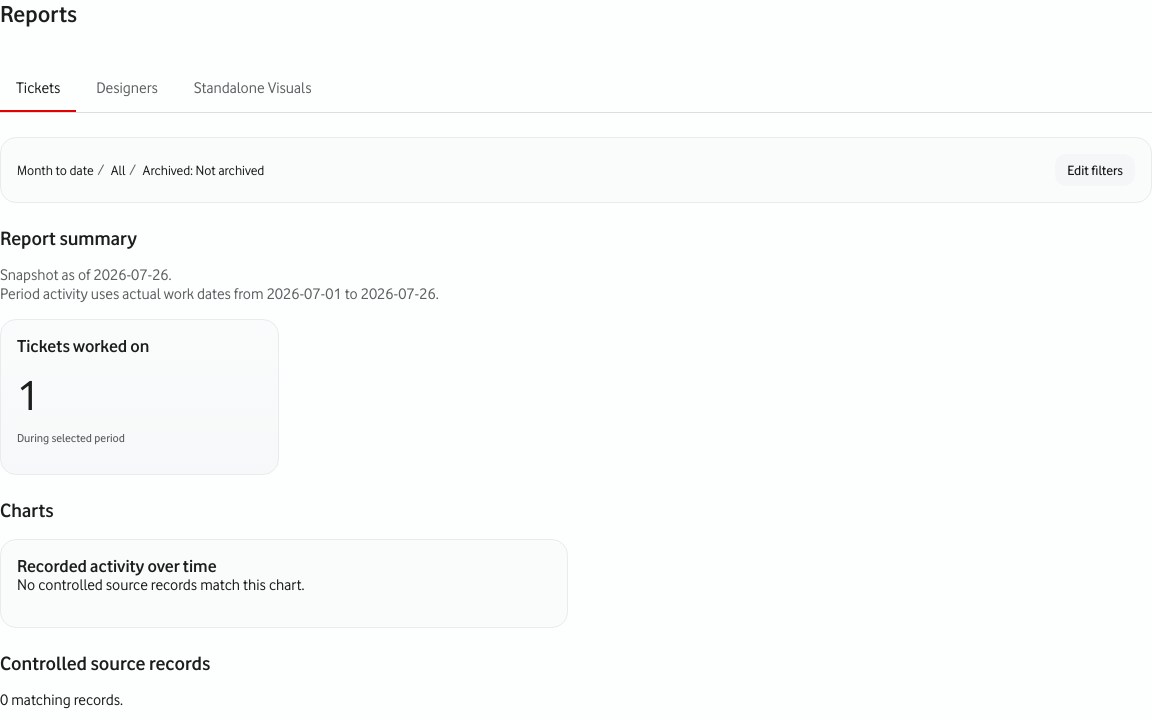
Test: ReportsPage › reveals matching metric source items without replacing the date label
The image size is (1152, 720).
Expected: the text "During selected period" is shown, left=17, top=431, right=125, bottom=445
Hover over the button with aria-label "Tickets worked on: 1. Show matching source items": point(140, 397) left=17, top=336, right=262, bottom=458
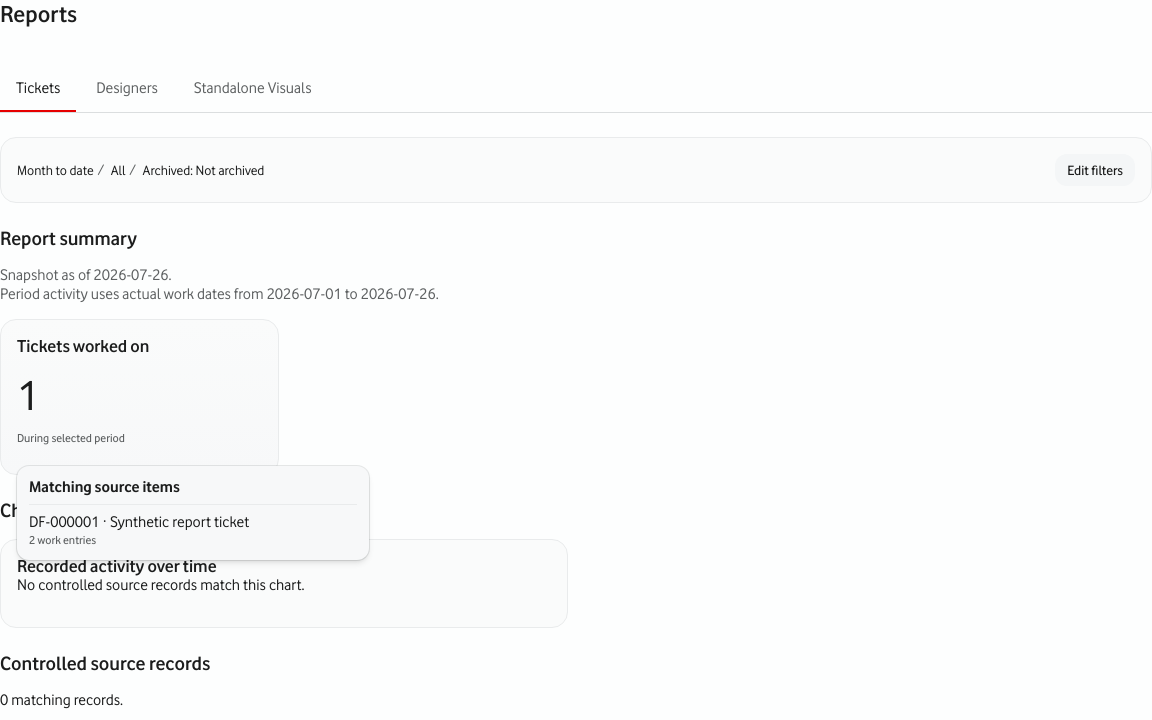
Expected: the text "During selected period" is shown, left=17, top=431, right=125, bottom=445
Result: the text "DF-000001 · Synthetic report ticket" is shown at left=29, top=513, right=249, bottom=531
Result: the text "2 work entries" is shown at left=29, top=533, right=96, bottom=547
Move the pointer off the button with aria-label "Tickets worked on: 1. Show matching source items", box left=17, top=336, right=262, bottom=458
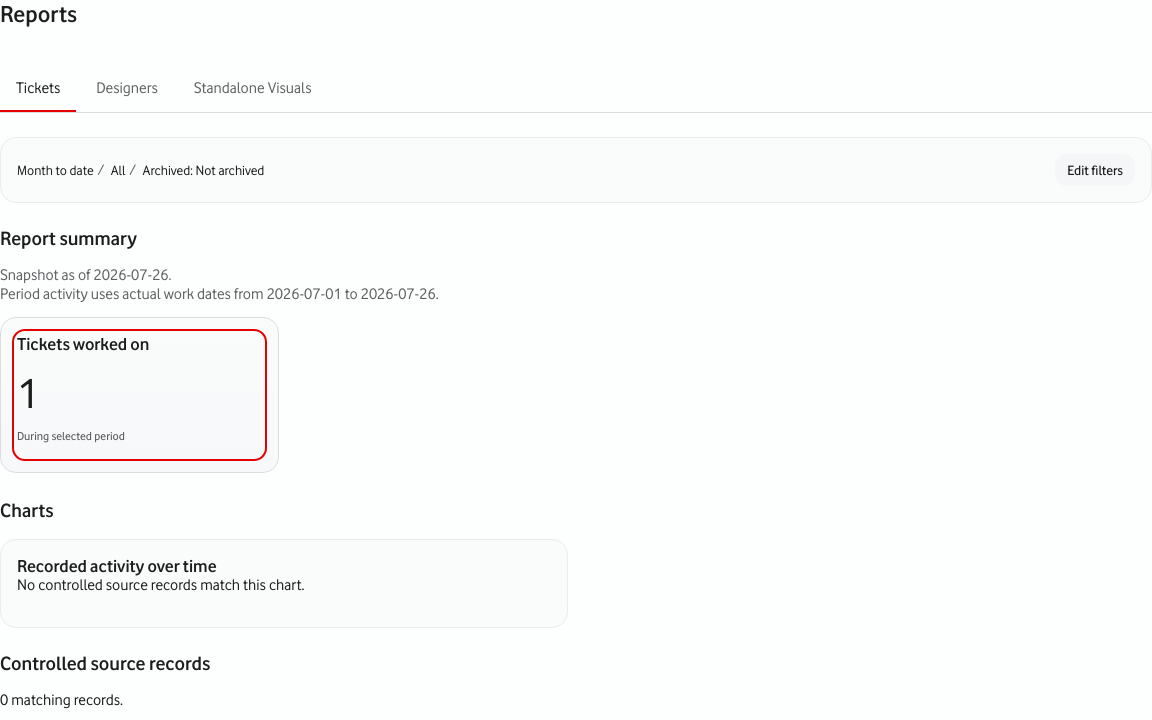
Result: the text "DF-000001 · Synthetic report ticket" is gone
Click the button with aria-label "Tickets worked on: 1. Show matching source items": point(140, 395) left=17, top=334, right=262, bottom=456
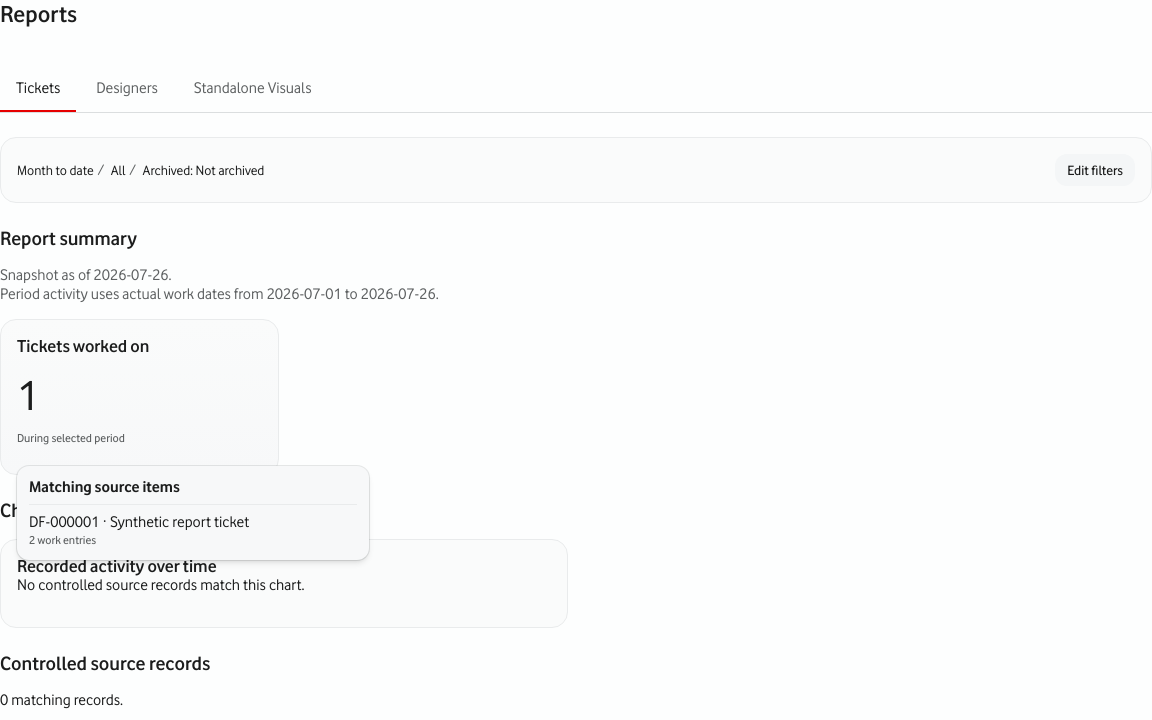
Result: the text "DF-000001 · Synthetic report ticket" is shown at left=29, top=513, right=249, bottom=531
